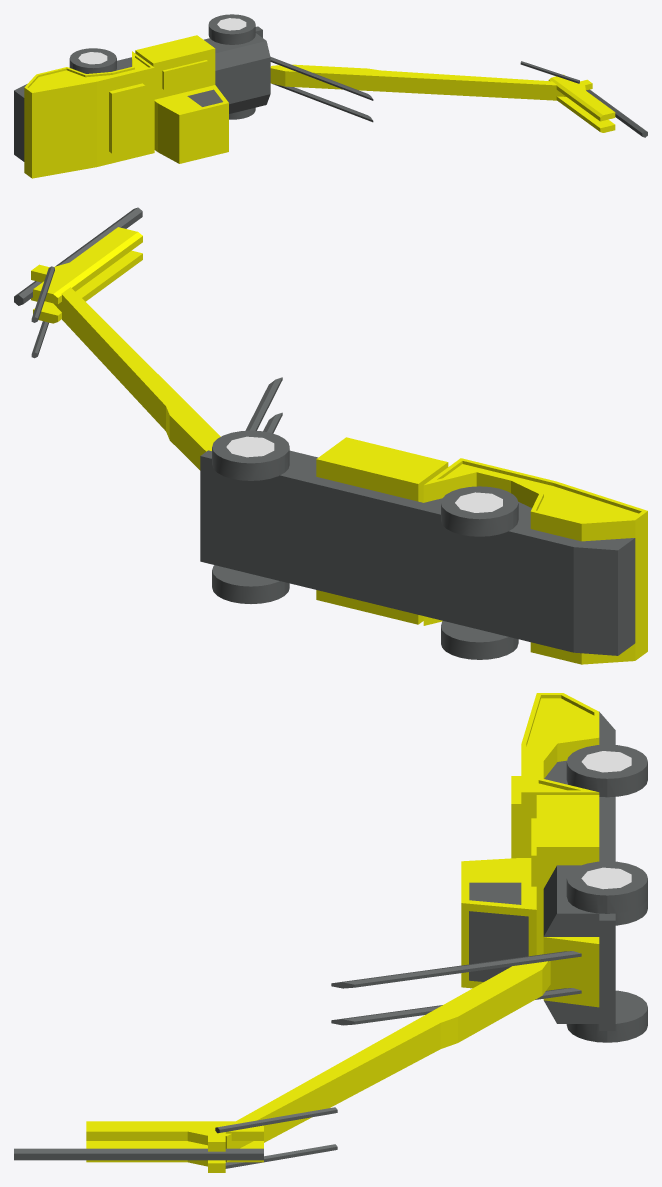
The model's file is roof_bolter.dae.
3 renders of one model, top to bottom at view 1: azimuth 30°, elevation 25°; view 2: azimuth 150°, elevation 25°; view 3: azimuth 270°, elevation 25°, orthographic. The views are drawn at different scales.
Visible parts, largest first — view 1: coords_ME_ID60_MA_material_1, coords_ME_ID130_MA_material_1, coords_ME_ID162_MA_material_1, coords_ME_ID66_MA_material_3, coords_ME_ID180_MA_material_1, coords_ME_ID45_MA_material_1, coords_ME_ID186_MA_material_1, coords_ME_ID98_MA_material_7, coords_ME_ID198_MA_material_1, coords_ME_ID112_MA_material_7, coords_ME_ID37_MA_material_1, coords_ME_ID4_MA_material (+6 smaller); view 2: coords_ME_ID66_MA_material_3, coords_ME_ID60_MA_material_1, coords_ME_ID162_MA_material_1, coords_ME_ID130_MA_material_1, coords_ME_ID186_MA_material_1, coords_ME_ID45_MA_material_1, coords_ME_ID112_MA_material_7, coords_ME_ID98_MA_material_7, coords_ME_ID106_MA_material_7, coords_ME_ID118_MA_material_7, coords_ME_ID37_MA_material_1, coords_ME_ID51_MA_material_2 (+2 smaller); view 3: coords_ME_ID162_MA_material_1, coords_ME_ID130_MA_material_1, coords_ME_ID66_MA_material_3, coords_ME_ID186_MA_material_1, coords_ME_ID45_MA_material_1, coords_ME_ID60_MA_material_1, coords_ME_ID51_MA_material_2, coords_ME_ID168_MA_material_4, coords_ME_ID98_MA_material_7, coords_ME_ID112_MA_material_7, coords_ME_ID118_MA_material_7, coords_ME_ID4_MA_material (+7 smaller).
Boxes of the visible parts, x1,y1,x2,y2 form: coords_ME_ID60_MA_material_1: (24,51,154,178); coords_ME_ID130_MA_material_1: (135,35,228,163); coords_ME_ID162_MA_material_1: (270,64,566,100); coords_ME_ID66_MA_material_3: (14,26,270,161); coords_ME_ID180_MA_material_1: (109,83,145,153); coords_ME_ID45_MA_material_1: (548,74,615,121); coords_ME_ID186_MA_material_1: (27,56,150,91); coords_ME_ID98_MA_material_7: (208,14,255,44); coords_ME_ID198_MA_material_1: (162,60,207,89); coords_ME_ID112_MA_material_7: (69,48,116,73); coords_ME_ID37_MA_material_1: (556,96,615,132); coords_ME_ID4_MA_material: (270,56,373,100); coords_ME_ID66_MA_material_3: (200,450,635,655); coords_ME_ID60_MA_material_1: (423,458,647,664); coords_ME_ID162_MA_material_1: (53,287,220,470); coords_ME_ID130_MA_material_1: (316,437,448,624); coords_ME_ID186_MA_material_1: (437,461,641,521); coords_ME_ID45_MA_material_1: (31,227,142,304); coords_ME_ID112_MA_material_7: (441,486,518,536); coords_ME_ID98_MA_material_7: (212,430,289,480); coords_ME_ID106_MA_material_7: (441,621,518,659); coords_ME_ID118_MA_material_7: (212,565,289,603); coords_ME_ID37_MA_material_1: (31,250,142,323); coords_ME_ID51_MA_material_2: (14,207,142,305); coords_ME_ID162_MA_material_1: (225,937,599,1162); coords_ME_ID130_MA_material_1: (461,795,599,988); coords_ME_ID66_MA_material_3: (543,711,615,1030); coords_ME_ID186_MA_material_1: (526,695,594,790); coords_ME_ID45_MA_material_1: (86,1121,263,1151); coords_ME_ID60_MA_material_1: (521,693,599,857); coords_ME_ID51_MA_material_2: (14,1148,263,1160); coords_ME_ID168_MA_material_4: (469,911,528,981); coords_ME_ID98_MA_material_7: (566,861,647,913); coords_ME_ID112_MA_material_7: (566,744,647,797); coords_ME_ID118_MA_material_7: (566,990,647,1042); coords_ME_ID4_MA_material: (331,951,581,988).
Size of the model in its own units: 137 by 24 by 93.69.
